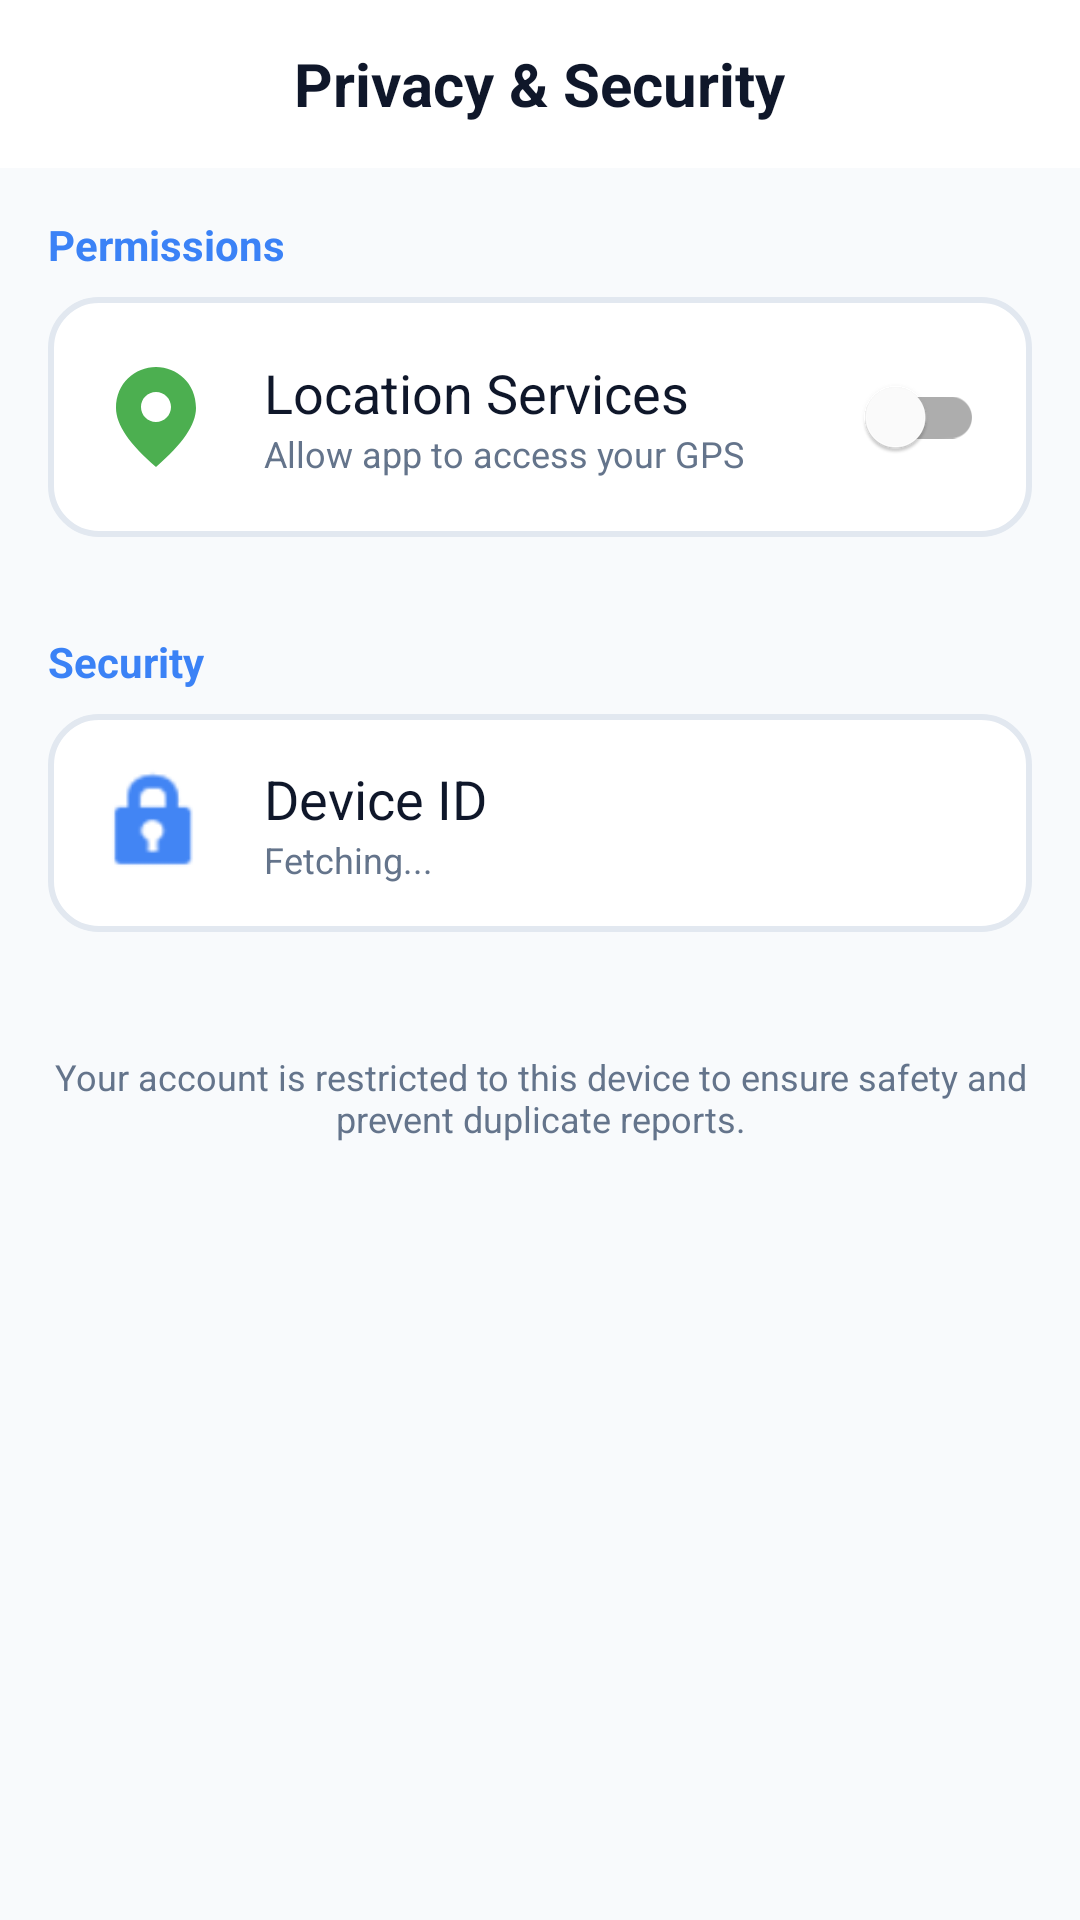

Icons on this 1080 × 1920 Android screen, each with its box as (x1, y1, x2, y2):
lock idle: (114, 773, 193, 865)
